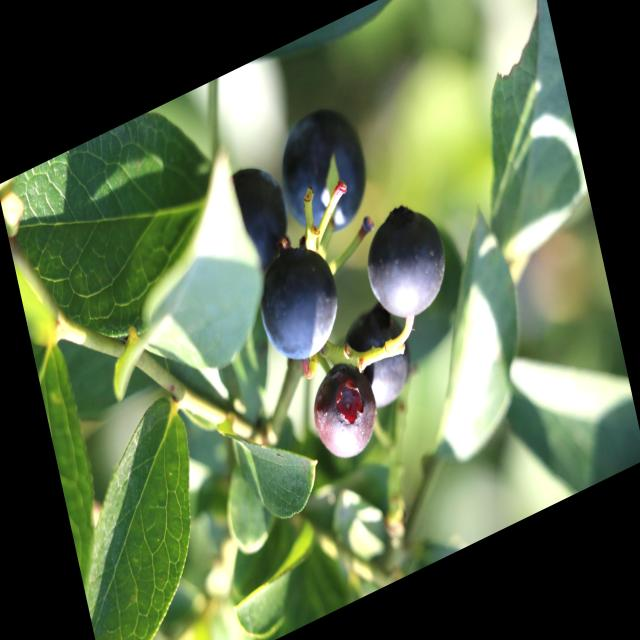blueberry: (272, 94, 375, 249), (247, 228, 347, 382), (358, 192, 455, 336), (306, 354, 382, 472), (342, 302, 417, 417), (226, 152, 294, 274)
